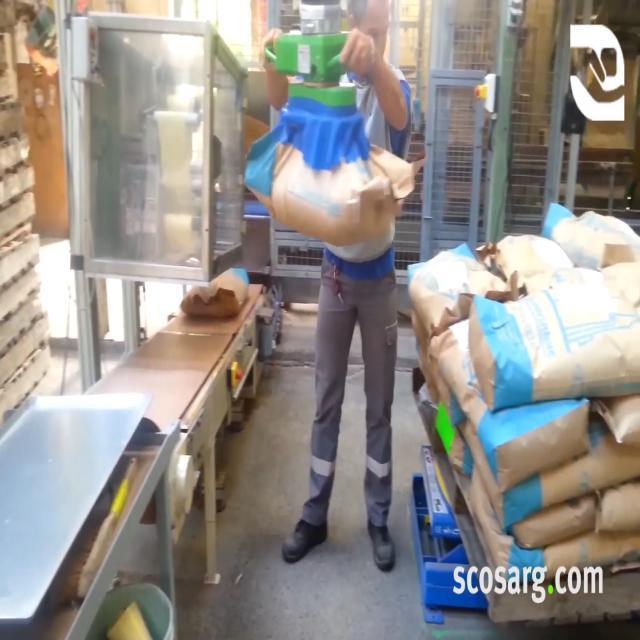gunny_bag: (431, 320, 590, 491), (469, 281, 640, 410), (467, 418, 640, 531), (251, 143, 425, 245), (478, 398, 590, 492), (512, 494, 597, 548)
